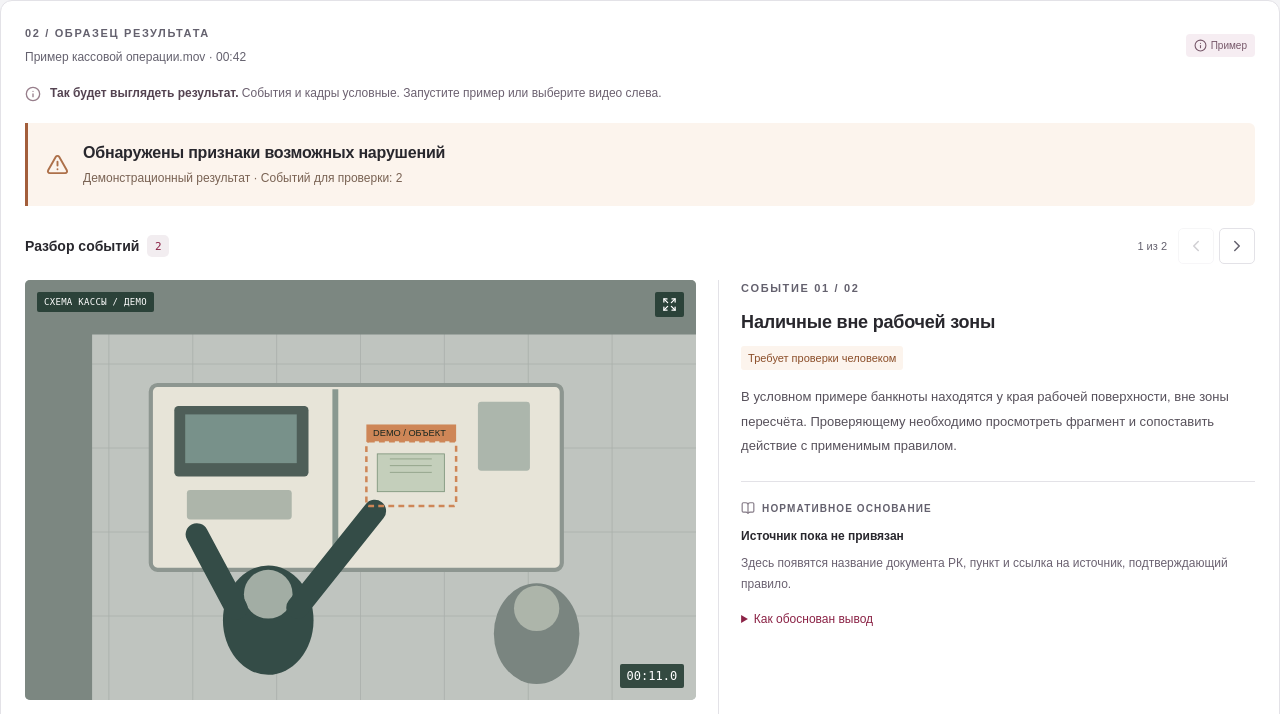
Test: review and upload regressions › labels a preview explicitly and navigates events without wrapping
Expected: the text "Образец результата" is shown, [55, 27, 210, 39]
Expected: the button named "Предыдущее событие" is disabled, [1178, 228, 1214, 264]
Click the button named "Следующее событие" at (1237, 246), box [1219, 228, 1255, 264]
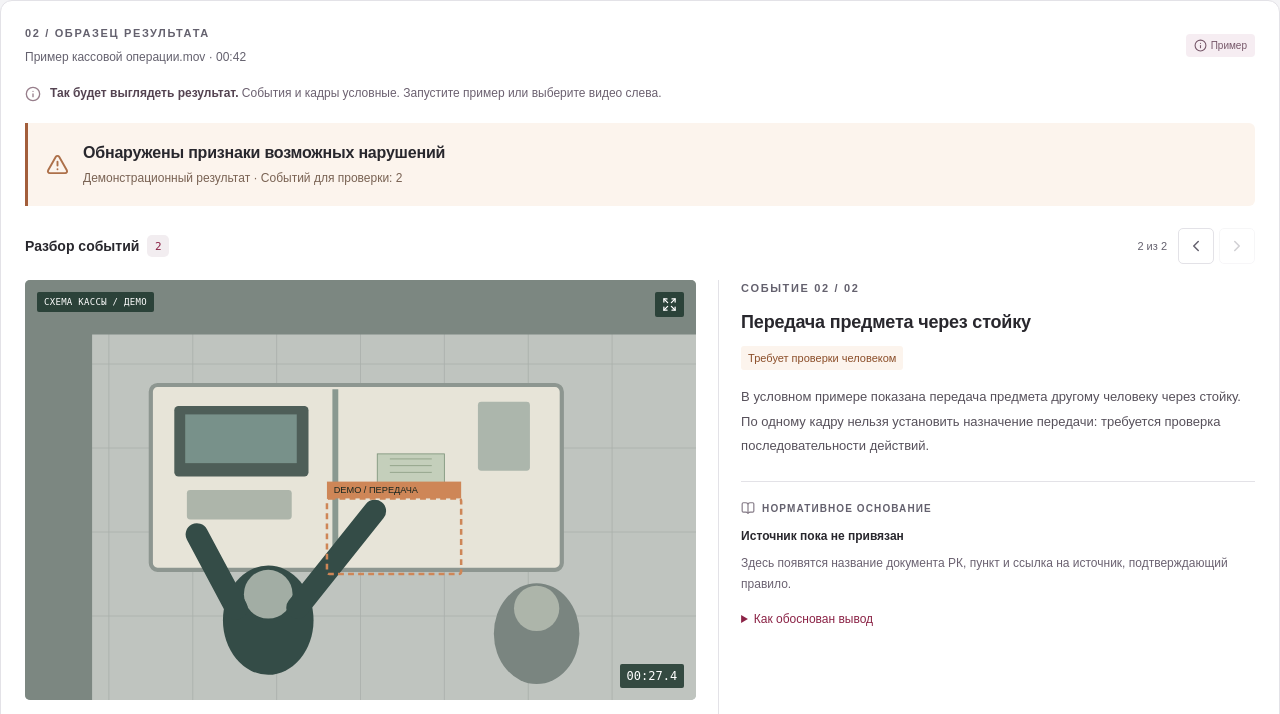
Now the heading "Передача предмета через стойку" is shown, box [741, 312, 1031, 332]
